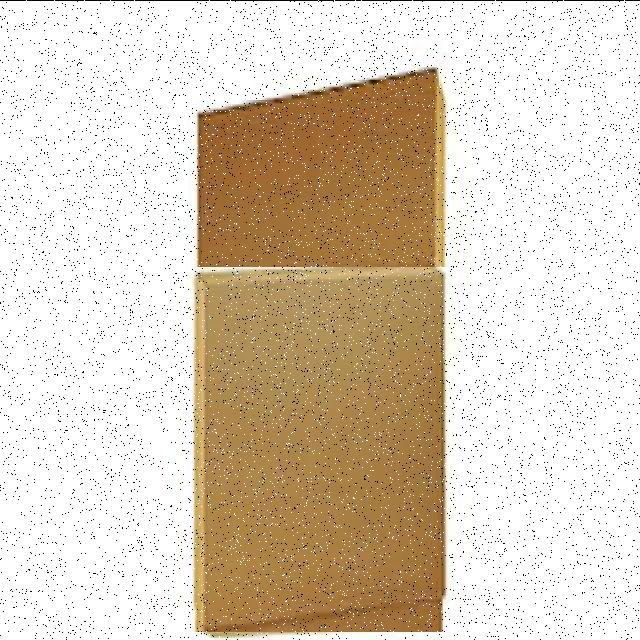normal: (189, 266, 451, 631), (194, 68, 443, 294)
